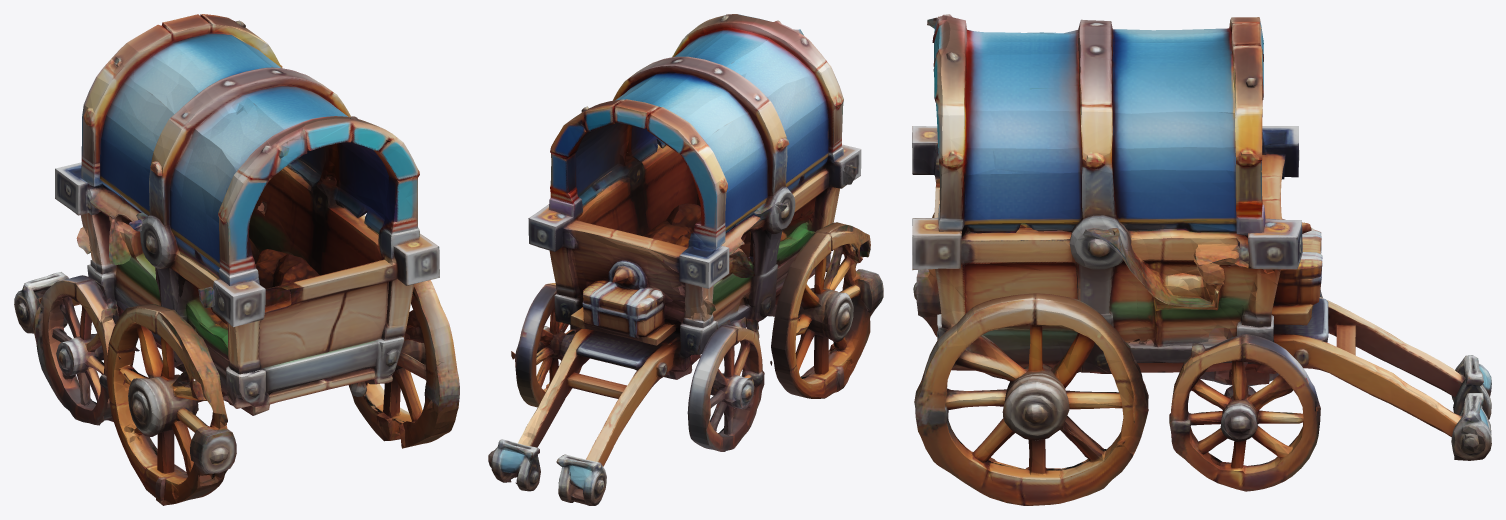
The model's file is typical_vehicle_cart_demo_trellis.glb.
3 renders of one model, left to right at view 1: azimuth 30°, elevation 25°; view 2: azimuth 150°, elevation 25°; view 3: azimuth 270°, elevation 25°, orthographic. The views are drawn at different scales.
Parts seen in each view (by area): view 1: world; view 2: world; view 3: world.
Part boxes in pixels (x1=…): world: x1=14, y1=14, x2=459, y2=505; world: x1=488, y1=14, x2=883, y2=505; world: x1=912, y1=14, x2=1491, y2=505.
Size of the model in its own units: 0.6305 by 0.7811 by 1.
Materials: 1 (1 with a texture image).
